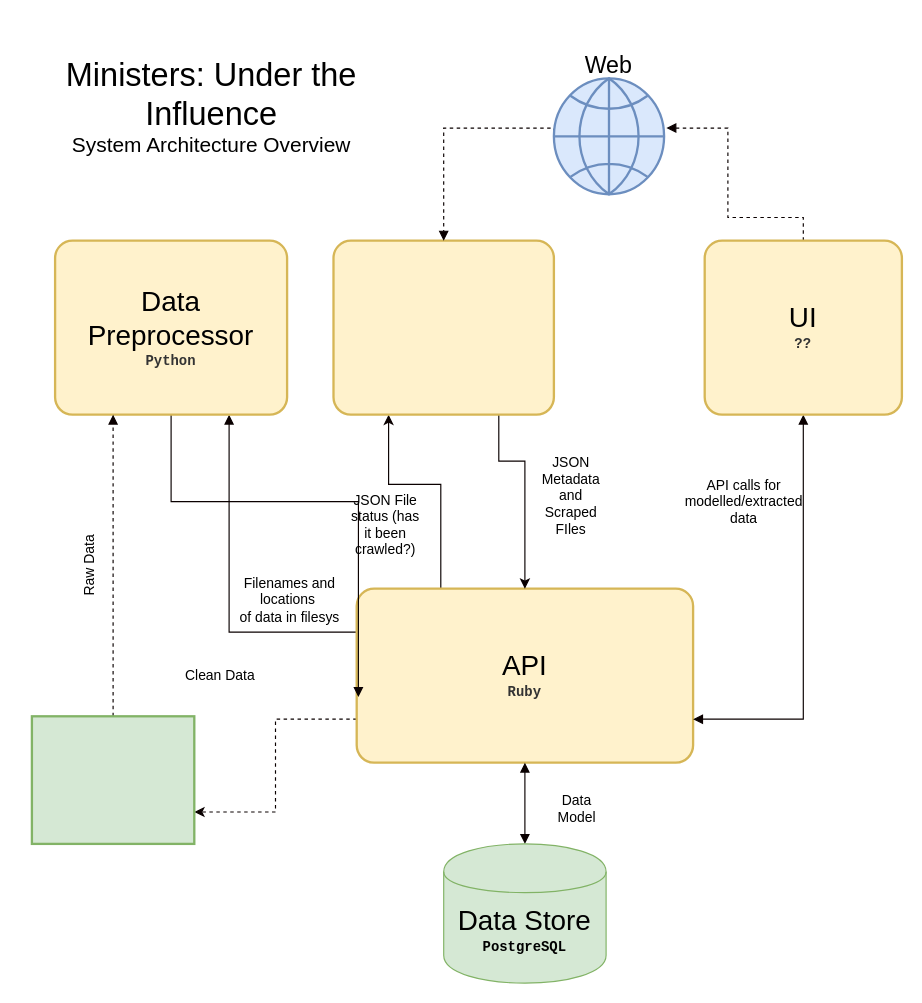
This 922x1003 diagram has some shape labels left out. Here are the shapes that lost their labels. From the top down, the centre of each, then its label:
(443,327): Web Scraper PHP
(112,779): File Sys
